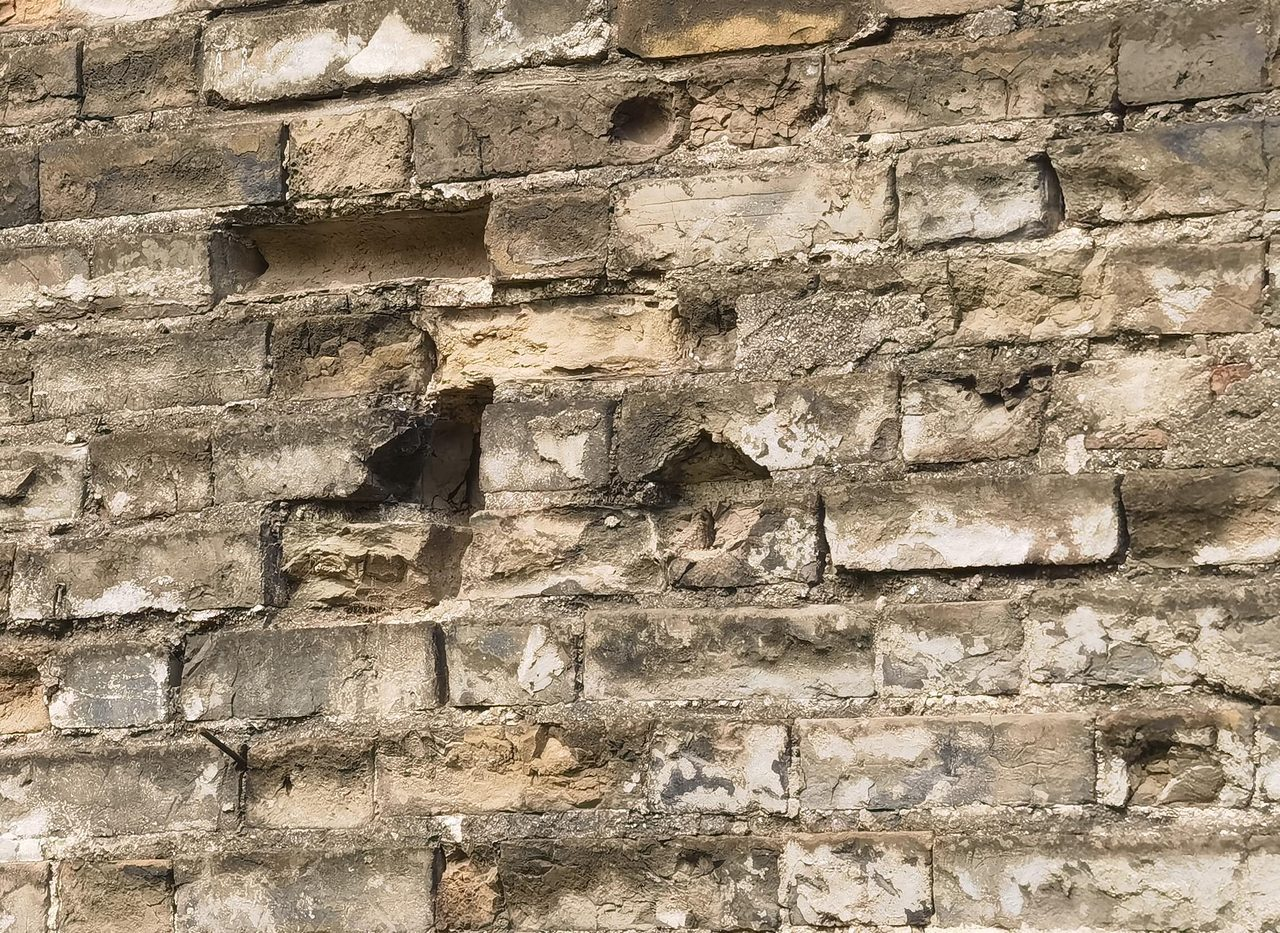brick_loss: (1099, 682, 1280, 839), (214, 195, 496, 285), (273, 518, 474, 610), (345, 397, 497, 516), (606, 86, 678, 152)
